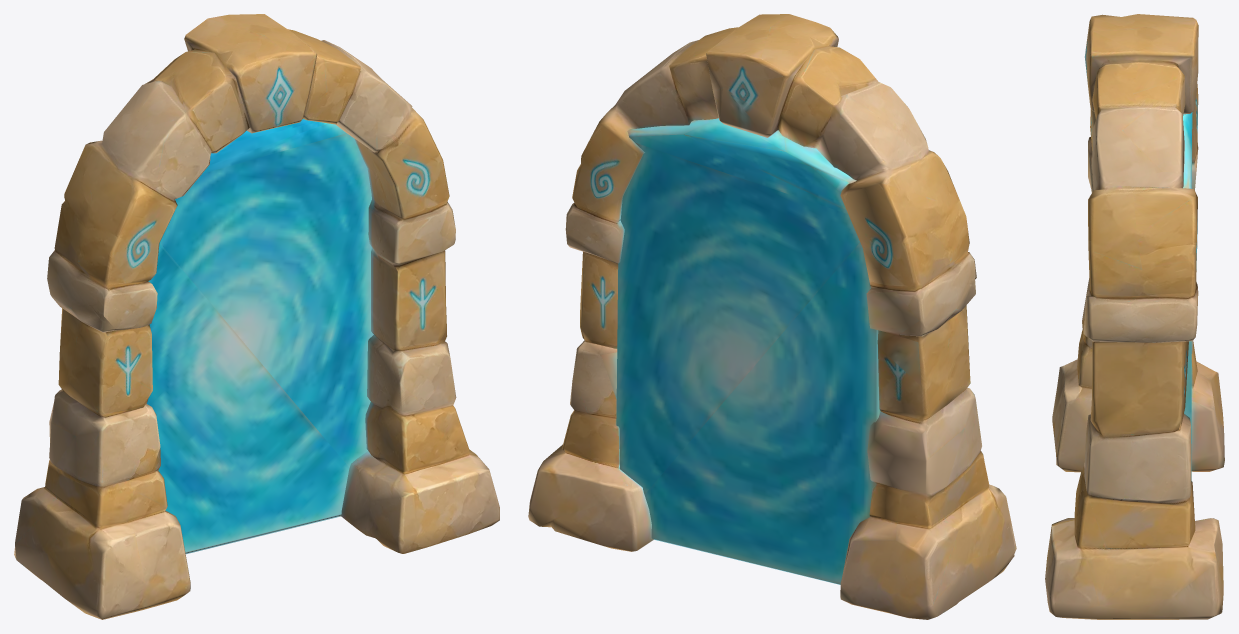
The model's file is camp_portail_v1.glb.
The picture shows the model from 3 angles, left to right: view 1: azimuth 30°, elevation 25°; view 2: azimuth 150°, elevation 25°; view 3: azimuth 270°, elevation 25°; orthographic projection. The views are drawn at different scales.
Size of the model in its own units: 0.7974 by 0.9526 by 0.3101.
1 material, 1 textured.
